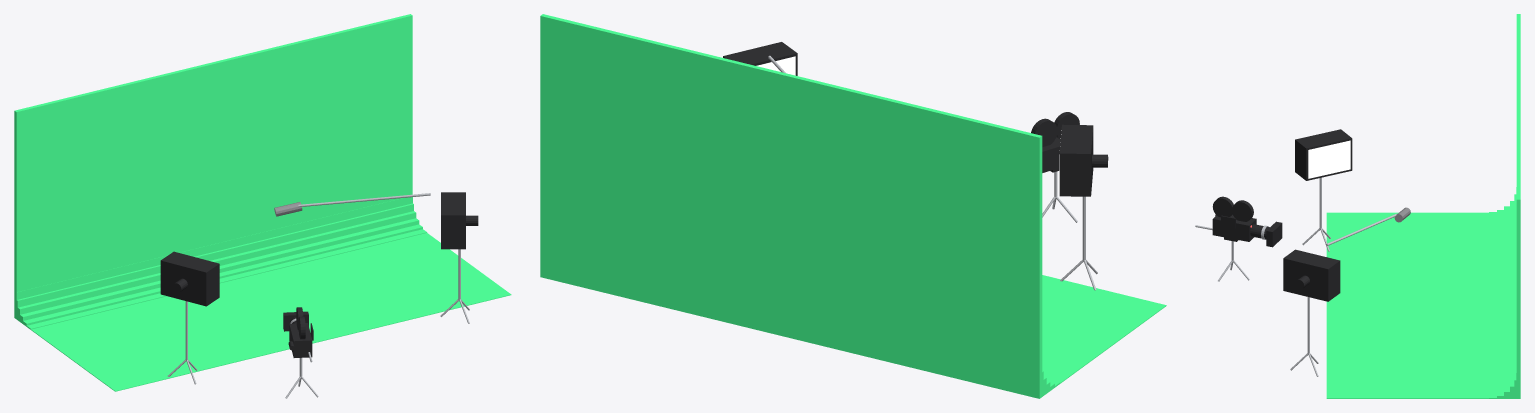
The model's file is studio.glb.
3 renders of one model, left to right at view 1: azimuth 30°, elevation 25°; view 2: azimuth 150°, elevation 25°; view 3: azimuth 270°, elevation 25°, orthographic. The views are drawn at different scales.
Visible parts, largest first — view 1: screen_wall, screen_floor, cove.005, cove.004, pole, cove.003, cove.002, cove.001, pole.001, cove, pole.002; view 2: screen_wall, screen_floor, pole, pole.002, pole.001; view 3: screen_floor, pole.001, pole, pole.002, screen_wall, cove, cove.001, cove.002, cove.003, cove.004.
Part boxes in pixels (bbox=[...]): screen_wall: bbox=[14, 14, 412, 319]; screen_floor: bbox=[17, 233, 511, 391]; cove.005: bbox=[16, 197, 412, 299]; cove.004: bbox=[16, 203, 413, 319]; pole: bbox=[160, 251, 219, 384]; cove.003: bbox=[16, 211, 416, 314]; cove.002: bbox=[16, 218, 419, 320]; cove.001: bbox=[17, 224, 422, 326]; pole.001: bbox=[440, 192, 478, 323]; cove: bbox=[17, 229, 427, 329]; pole.002: bbox=[283, 307, 318, 398]; screen_wall: bbox=[540, 14, 1042, 398]; screen_floor: bbox=[1042, 275, 1166, 394]; pole: bbox=[1059, 124, 1108, 290]; pole.002: bbox=[1031, 112, 1079, 222]; pole.001: bbox=[723, 42, 797, 75]; screen_floor: bbox=[1326, 212, 1516, 398]; pole.001: bbox=[1283, 249, 1340, 376]; pole: bbox=[1295, 129, 1352, 251]; pole.002: bbox=[1195, 196, 1282, 281]; screen_wall: bbox=[1516, 14, 1520, 398]; cove: bbox=[1489, 212, 1515, 398]; cove.001: bbox=[1497, 210, 1516, 398]; cove.002: bbox=[1504, 206, 1516, 398]; cove.003: bbox=[1510, 201, 1516, 398]; cove.004: bbox=[1514, 194, 1516, 392].
Size of what is drawn, in the model's own units: 22 by 11.01 by 16.28.
